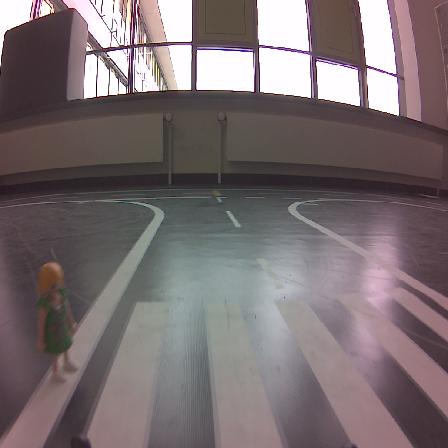PERSON: (37, 262, 76, 382)
